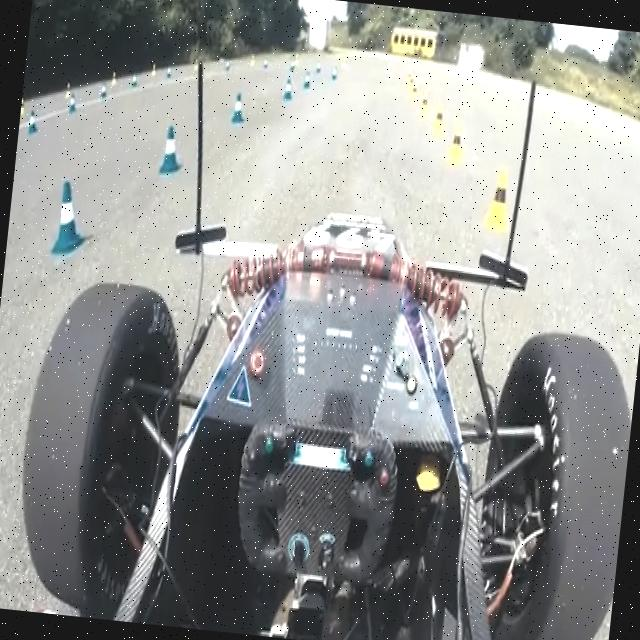blue_cone: (48, 175, 91, 259), (156, 122, 186, 178), (228, 88, 248, 126), (282, 76, 295, 102), (301, 68, 312, 91)
yellow_cone: (480, 162, 516, 235), (444, 116, 466, 164), (430, 98, 450, 137), (417, 86, 432, 116)
